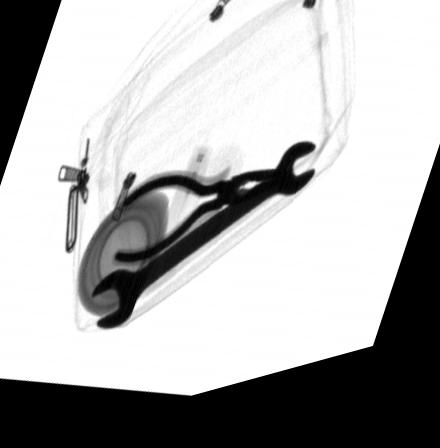Pliers: (110, 180, 292, 274)
Wrench: (90, 157, 316, 336)
